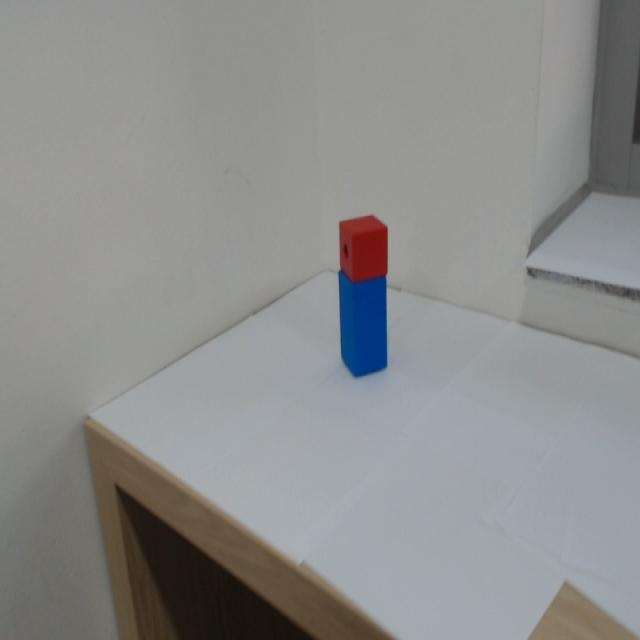cube: (321, 184, 406, 284)
